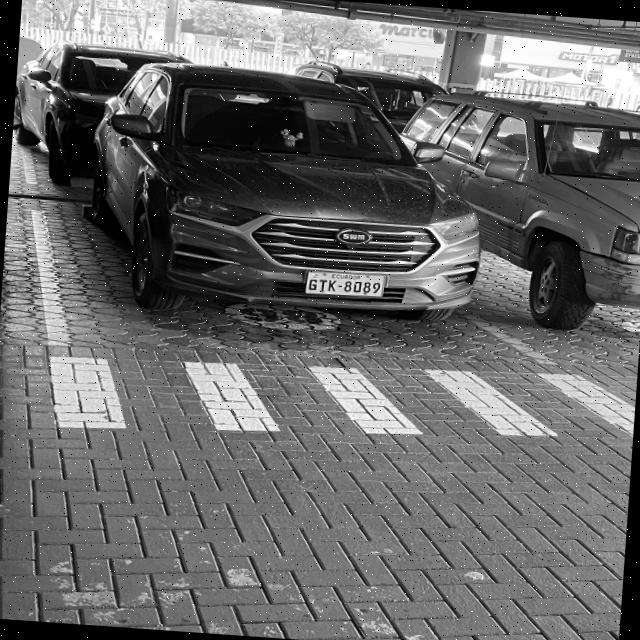Placa: (306, 272, 386, 297)
